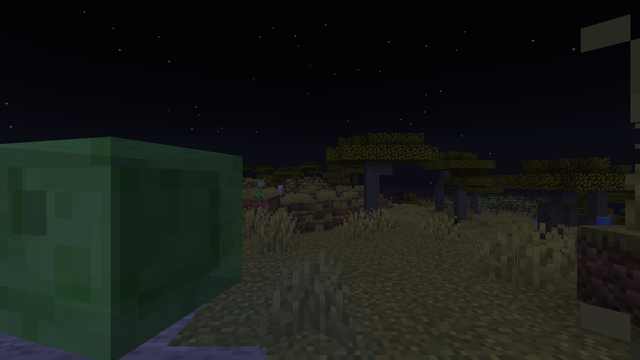creepers: (255, 179, 263, 197)
slimes: (4, 131, 236, 348)
squelettes: (277, 185, 283, 202)
